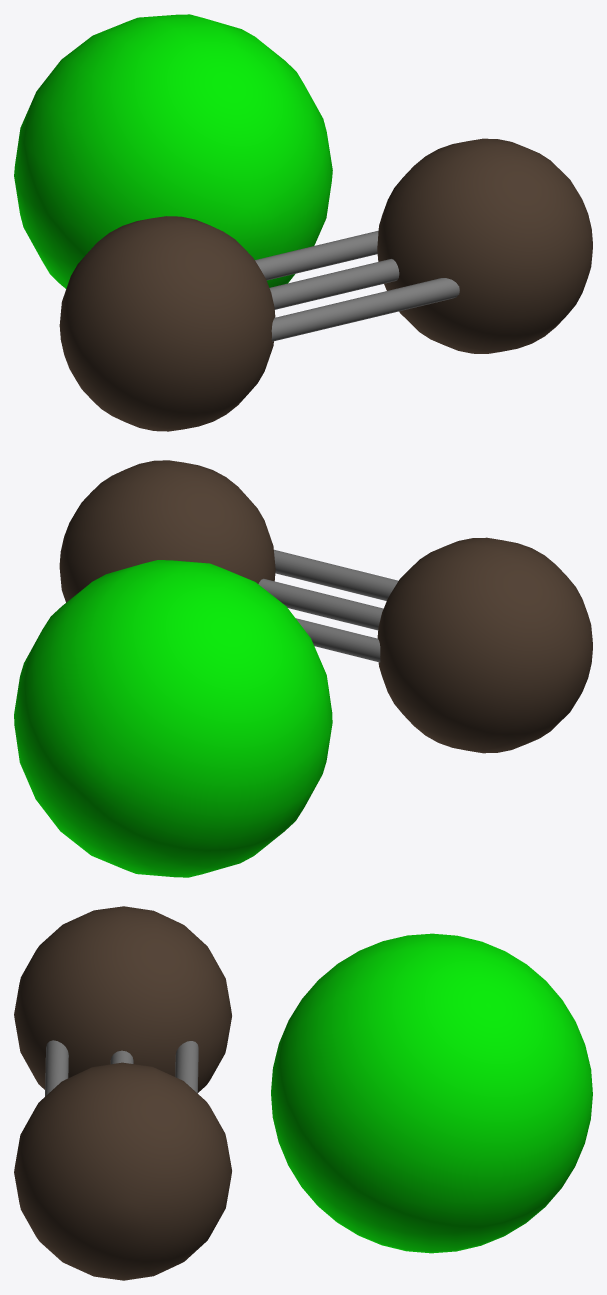
The model's file is CaSi2.fbx.
3 views of the same model, one above another, from view 1: azimuth 30°, elevation 25°; view 2: azimuth 150°, elevation 25°; view 3: azimuth 270°, elevation 25° (orthographic).
Visible parts, largest first — view 1: CaSi2; view 2: CaSi2; view 3: CaSi2.
Part boxes in pixels (bbox=[...]): CaSi2: bbox=[14, 14, 592, 431]; CaSi2: bbox=[14, 460, 592, 877]; CaSi2: bbox=[14, 906, 592, 1280].
Size of the model in its own units: 4.98 by 2.73 by 4.9.
